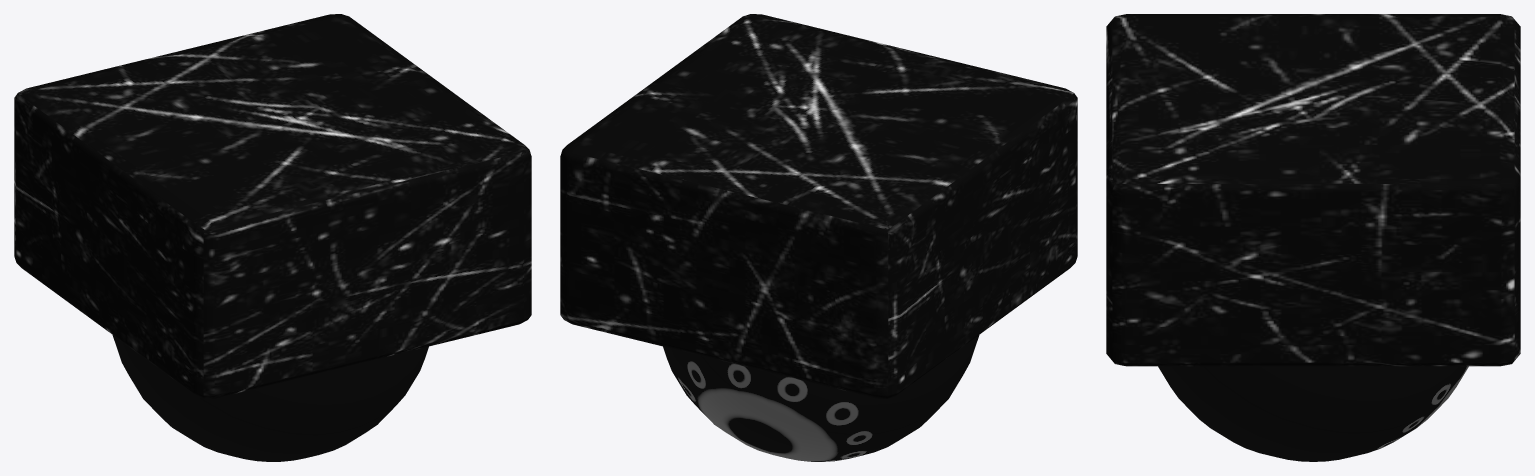
Rendered from cctv_camera1.glb.
The picture shows the model from 3 angles, left to right: view 1: azimuth 30°, elevation 25°; view 2: azimuth 150°, elevation 25°; view 3: azimuth 270°, elevation 25°; orthographic projection. The views are drawn at different scales.
Parts seen in each view (by area): view 1: Base, Camera; view 2: Base, Camera; view 3: Base, Camera.
Boxes of the visible parts, x1,y1,x2,y2 form: Base: [14, 14, 531, 398]; Camera: [112, 335, 428, 461]; Base: [560, 14, 1077, 398]; Camera: [663, 335, 979, 461]; Base: [1106, 14, 1520, 366]; Camera: [1158, 366, 1468, 461].
Bounding box in the file's own units: 2 × 1.86 × 2.
2 materials, 2 textured.
